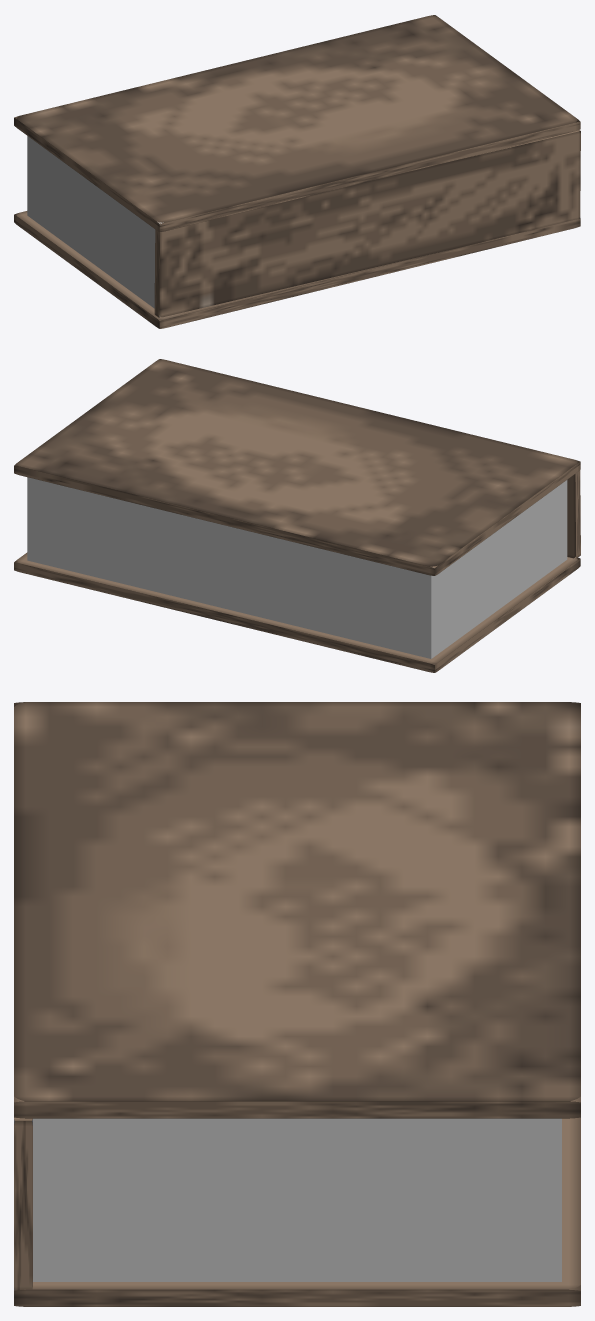
The model's file is livro.obj.
3 renders of one model, top to bottom at view 1: azimuth 30°, elevation 25°; view 2: azimuth 150°, elevation 25°; view 3: azimuth 270°, elevation 25°, orthographic. The views are drawn at different scales.
Parts seen in each view (by area): view 1: cube; view 2: cube; view 3: cube.
Part boxes in pixels (left/top/right/bottom): cube: left=14, top=15, right=580, bottom=328; cube: left=14, top=359, right=580, bottom=672; cube: left=14, top=702, right=580, bottom=1306.
Bounding box in the file's own units: 0.313 × 0.075 × 0.1875.
